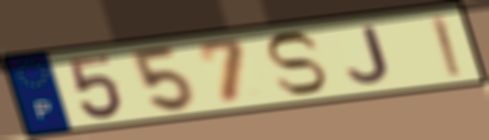5: (124, 42, 200, 114), (65, 52, 123, 120)
7: (195, 35, 256, 107)
I: (428, 13, 464, 79)
J: (344, 24, 393, 86)
S: (262, 30, 330, 97)
